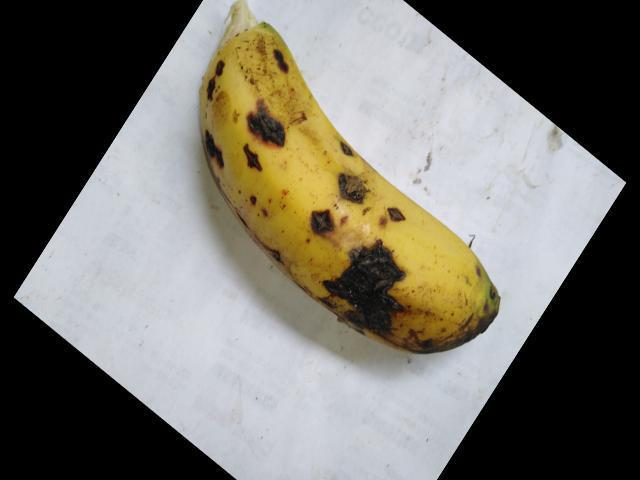ripe: (182, 11, 508, 369)
rotten: (301, 230, 413, 345), (231, 96, 301, 182), (187, 50, 236, 114), (324, 155, 384, 205), (367, 190, 421, 233), (193, 124, 234, 176), (261, 41, 298, 80), (308, 202, 333, 239)
